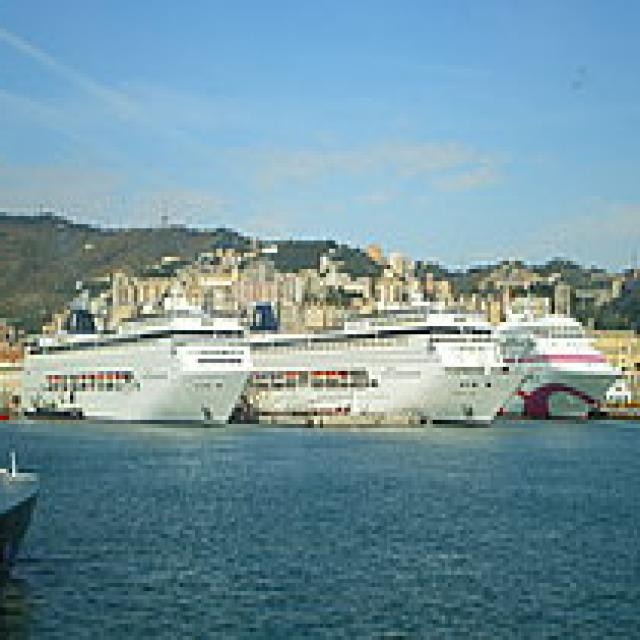Cruise: (226, 298, 540, 428), (24, 273, 259, 424), (475, 306, 631, 420)
